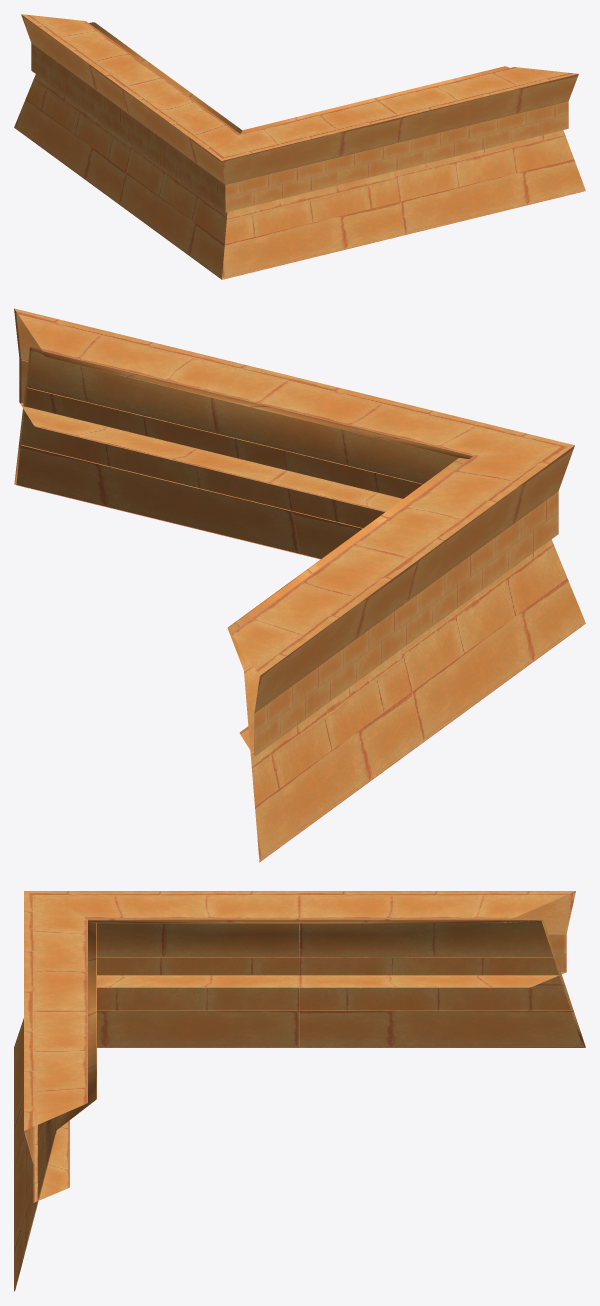
Rendered from TempleFloor03_Cut.glb.
The picture shows the model from 3 angles, top to bottom: view 1: azimuth 30°, elevation 25°; view 2: azimuth 150°, elevation 25°; view 3: azimuth 270°, elevation 25°; orthographic projection. The views are drawn at different scales.
Visible parts, largest first — view 1: TempleFloor03_Cut; view 2: TempleFloor03_Cut; view 3: TempleFloor03_Cut.
Part boxes in pixels (box(x1,y1,x2,y2)): TempleFloor03_Cut: box(14, 14, 585, 279); TempleFloor03_Cut: box(14, 308, 585, 862); TempleFloor03_Cut: box(14, 891, 585, 1291).
Size of the model in its own units: 49.08 by 14.86 by 48.56.
Materials: 1 (1 with a texture image).
